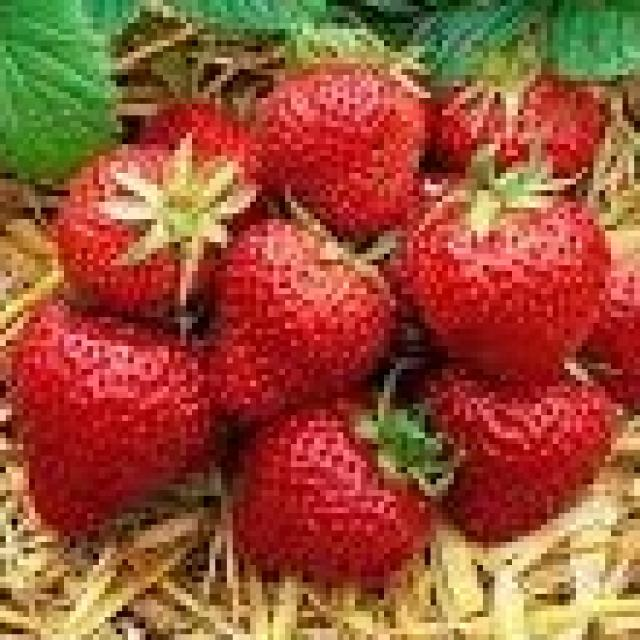strawberry: (195, 193, 425, 410), (13, 308, 210, 546), (404, 180, 606, 381), (227, 411, 436, 575), (37, 138, 227, 312), (233, 71, 409, 236)
